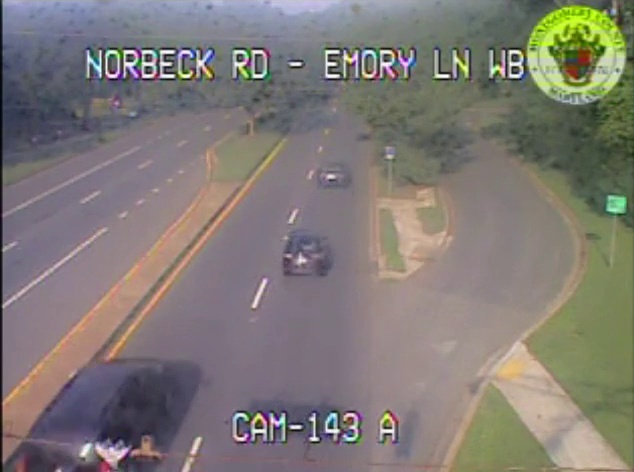car: (16, 359, 171, 472), (282, 231, 328, 273), (318, 163, 348, 186)
